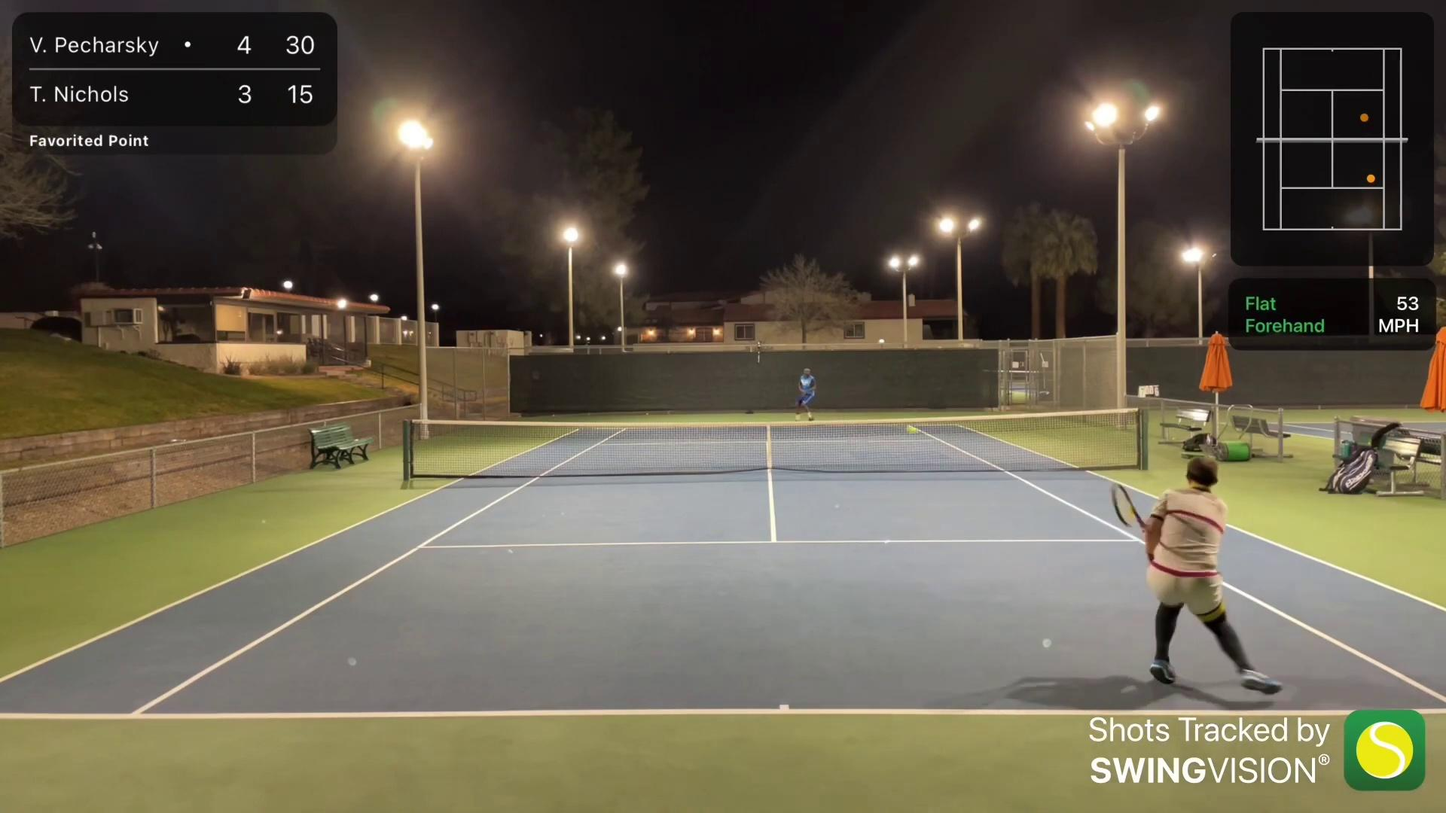ball: (901, 421, 918, 435)
